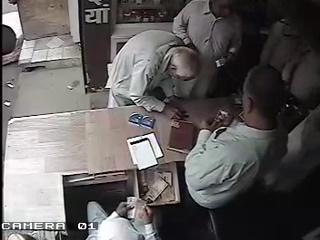Normal: (184, 64, 290, 212), (106, 30, 202, 112), (172, 0, 242, 98), (87, 198, 161, 240)
